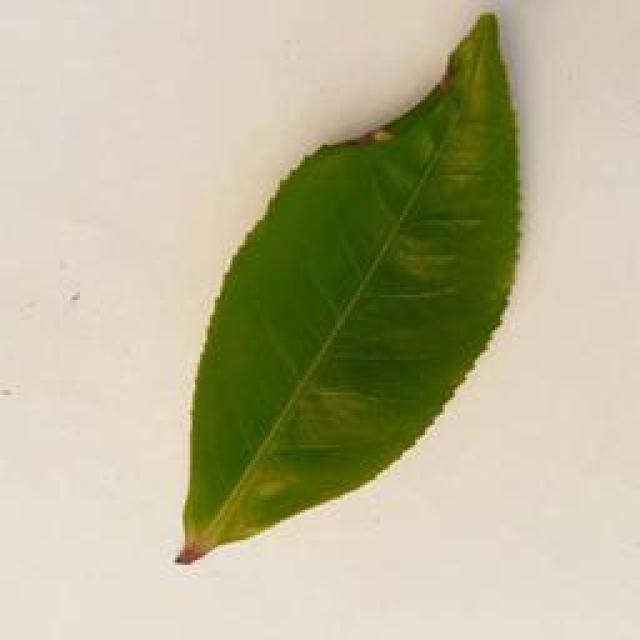Healthy: (160, 14, 549, 576)
